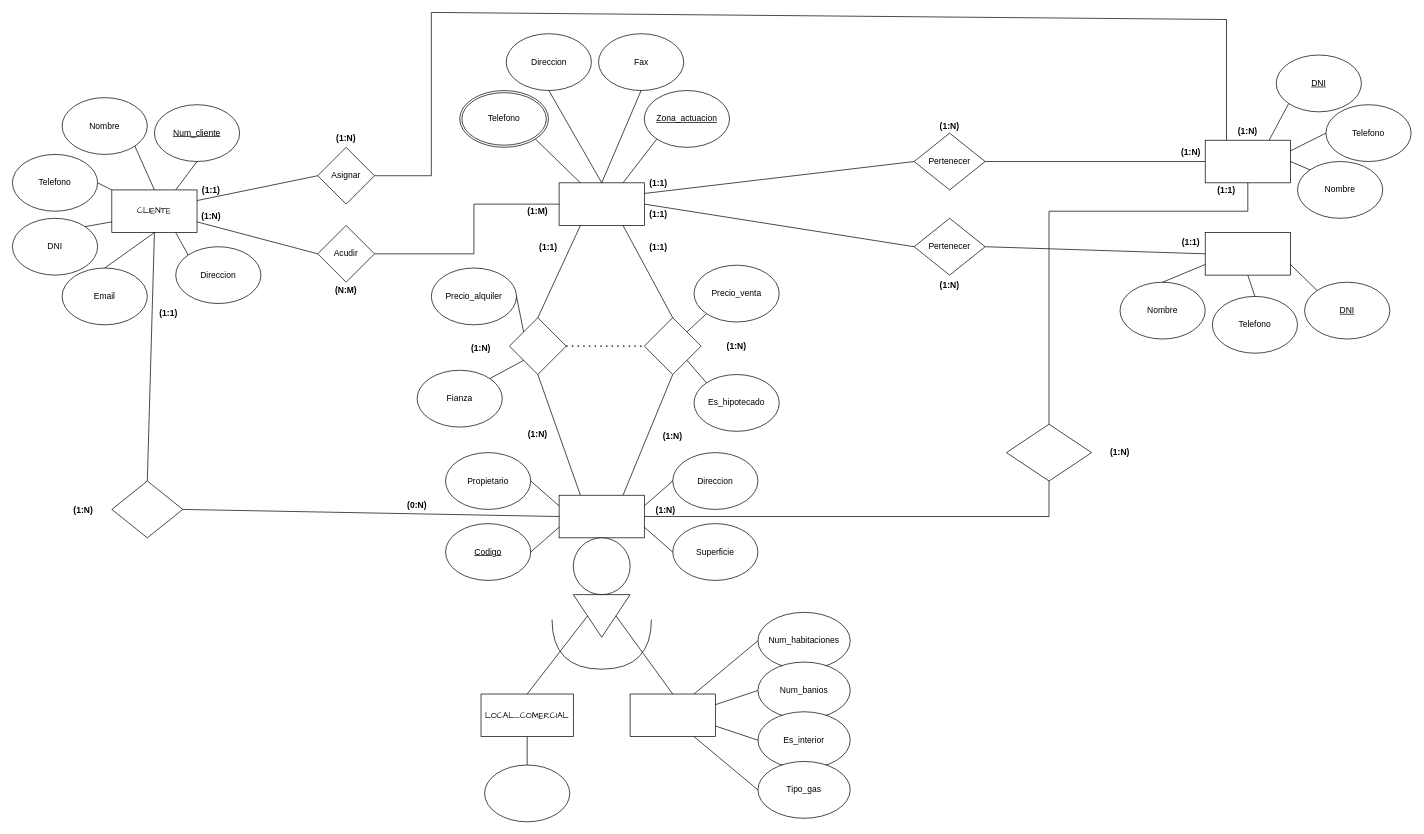
The diagram is 1424 pixels wide and 834 high, and some of its shapes have lost their labels. Each missing label, with the box of its shape:
AGENCIA: (558, 182, 644, 225)
Alquilar: (509, 317, 566, 375)
MUEBLES: (558, 495, 644, 538)
PISO: (629, 693, 715, 737)
Seleccionar: (1006, 424, 1092, 481)
Senializar: (111, 480, 183, 538)
Tiene_licencia apertura: (484, 764, 570, 822)
TITULAR: (1205, 232, 1290, 275)
VENDEDOR: (1205, 140, 1290, 183)
Vender: (644, 317, 701, 375)
